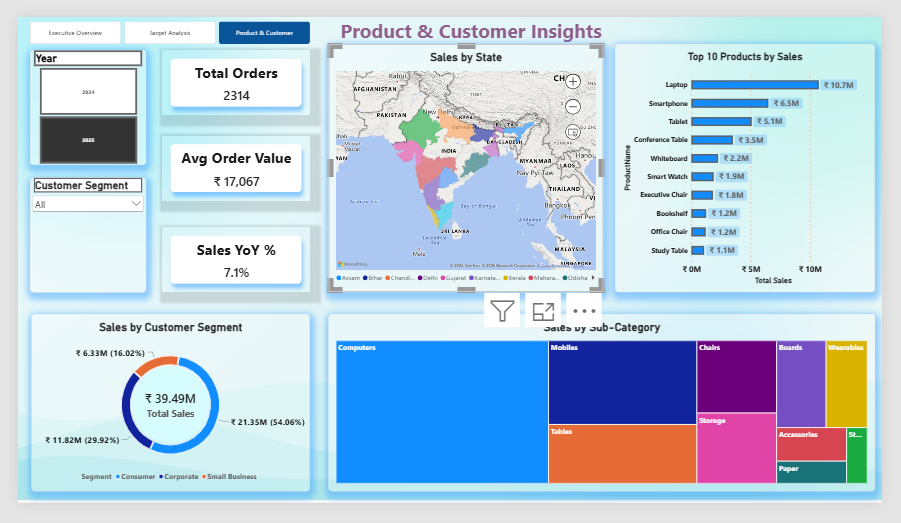

The page's visual inventory and layout, read from the dashboard file:
{"tool":"powerbi","page":{"name":"Product & Customer","canvas":[1920,1080],"ordinal":2},"visuals":[{"type":"textbox","box":[715.8,0,610.8,74],"z":0},{"type":"slicer","fields":{"Values":["Calendar.Year"]},"box":[26.2,74,257.7,255.3],"z":1},{"type":"slicer","title":"Customer Segment","fields":{"Values":["customers.Segment"]},"box":[26.2,357.9,257.7,255.3],"z":2},{"type":"cardVisual","fields":{"Data":["sales.Total Orders"]},"box":[319.7,74,329.3,145.5],"z":4},{"type":"cardVisual","fields":{"Data":["sales.Avg Order Value"]},"box":[319.7,264.8,329.3,145.5],"z":5},{"type":"cardVisual","fields":{"Data":["sales.Sales YoY %"]},"box":[319.7,465.3,329.3,145.5],"z":6},{"type":"clusteredBarChart","title":"Top 10 Products by Sales","fields":{"Category":["products.ProductName"],"Y":["sales.Total Sales"]},"box":[1326.6,59.6,577.4,551.1],"z":7},{"type":"treemap","title":"Sales by Sub-Category","fields":{"Group":["products.SubCategory"],"Values":["sales.Total Sales"]},"box":[689.5,658.5,1214.4,393.7],"z":8},{"type":"donutChart","title":"Sales by Customer Segment","fields":{"Category":["customers.Segment"],"Y":["sales.Total Sales"]},"box":[31,658.5,618,393.7],"z":9},{"type":"filledMap","title":"Sales by State","fields":{"Category":["customers.Country","customers.State"]},"box":[689.5,59.6,610.8,551.1],"z":10},{"type":"pageNavigator","box":[26.2,9.5,622.7,50.1],"z":11}]}

Visuals, with their boxes on the page's 1920x1080 design canvas (x1, y1, x2, y2). These are canvas units, not pixel positions in the 901x523 screenshot, which may show the page scaled, cropped or inside an application window:
textbox: (716,0,1327,74)
slicer - Calendar.Year: (26,74,284,329)
"Customer Segment" slicer: (26,358,284,613)
cardVisual - sales.Total Orders: (320,74,649,220)
cardVisual - sales.Avg Order Value: (320,265,649,410)
cardVisual - sales.Sales YoY %: (320,465,649,611)
"Top 10 Products by Sales" clusteredBarChart: (1327,60,1904,611)
"Sales by Sub-Category" treemap: (690,658,1904,1052)
"Sales by Customer Segment" donutChart: (31,658,649,1052)
"Sales by State" filledMap: (690,60,1300,611)
pageNavigator: (26,10,649,60)
